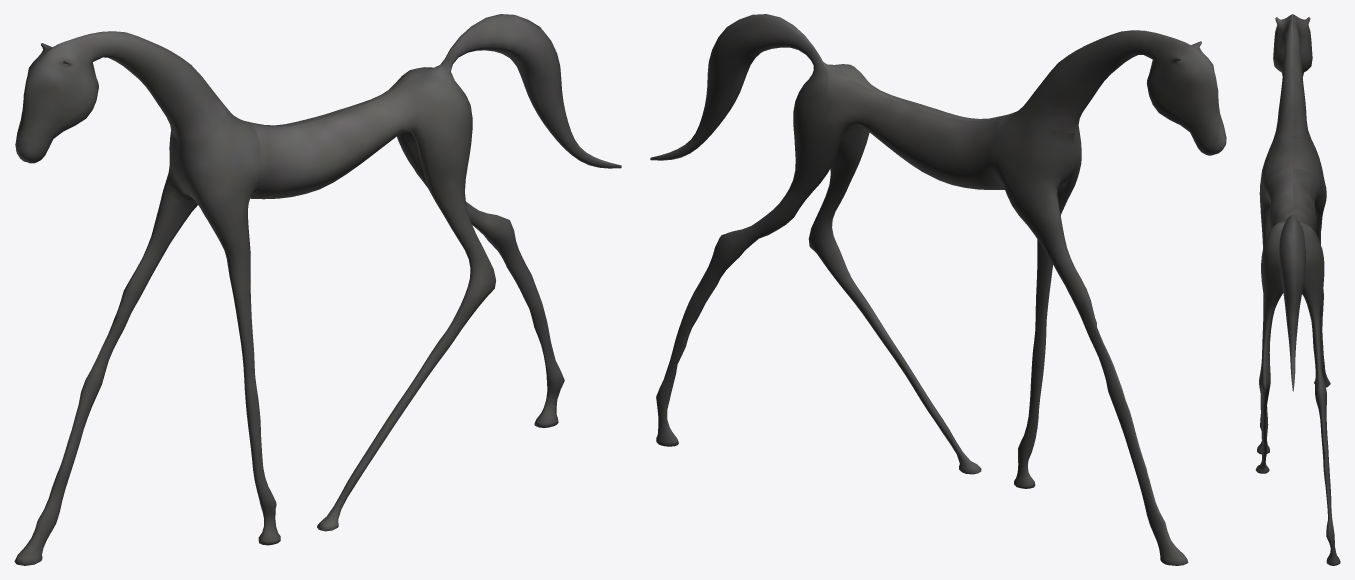
Rendered from EE_Horse_Figurine_01.gltf.
3 views of the same model, side by side, from view 1: azimuth 30°, elevation 25°; view 2: azimuth 150°, elevation 25°; view 3: azimuth 270°, elevation 25° (orthographic). The views are drawn at different scales.
Visible parts, largest first — view 1: EE_HorseFigurine_01.001; view 2: EE_HorseFigurine_01.001; view 3: EE_HorseFigurine_01.001.
Boxes of the visible parts, <box> form: EE_HorseFigurine_01.001: <box>14,14,621,565</box>; EE_HorseFigurine_01.001: <box>650,14,1226,565</box>; EE_HorseFigurine_01.001: <box>1255,14,1340,565</box>.
Size of what is drawn, in the model's own units: 0.3473 by 0.2922 by 0.0602.
1 material, 1 textured.
